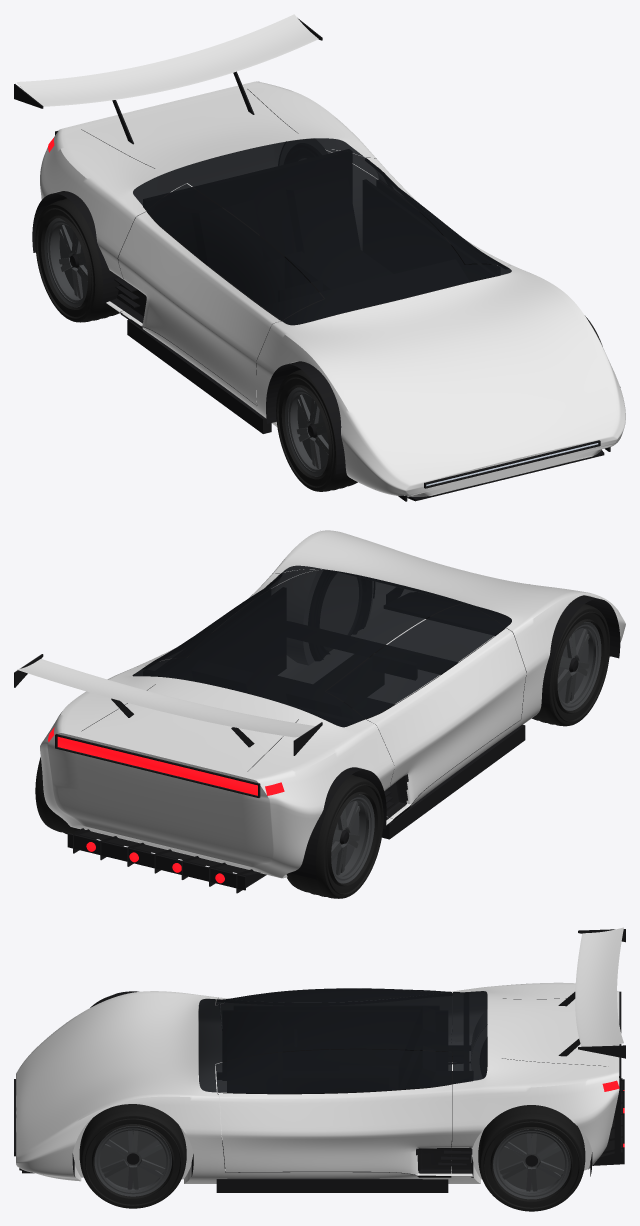
The model's file is roadster2026_hero.glb.
3 views of the same model, one above another, from view 1: azimuth 30°, elevation 25°; view 2: azimuth 150°, elevation 25°; view 3: azimuth 270°, elevation 25° (orthographic). The views are drawn at different scales.
Parts seen in each view (by area): view 1: body, glass, door_L_mesh, trim, door_L_glass, wheel_RL_mesh, wheel_FL_mesh, door_R_glass; view 2: body, glass, door_L_mesh, trim, door_L_glass, wheel_RL_mesh, wheel_FL_mesh, lights, door_R_glass, wheel_RR_mesh; view 3: body, glass, door_R_mesh, door_R_glass, wheel_RR_mesh, wheel_FR_mesh, trim.
Part boxes in pixels (<box>): body: <box>17,14,625,497</box>; glass: <box>133,138,511,325</box>; door_L_mesh: <box>118,211,280,405</box>; trim: <box>14,18,620,501</box>; door_L_glass: <box>147,183,323,320</box>; wheel_RL_mesh: <box>35,198,119,322</box>; wheel_FL_mesh: <box>276,369,357,491</box>; door_R_glass: <box>326,149,504,265</box>; body: <box>17,530,625,878</box>; glass: <box>133,565,511,726</box>; door_L_mesh: <box>366,628,526,818</box>; trim: <box>14,573,620,893</box>; door_L_glass: <box>326,604,505,718</box>; wheel_RL_mesh: <box>286,774,383,898</box>; wheel_FL_mesh: <box>532,604,609,726</box>; lights: <box>48,727,284,883</box>; door_R_glass: <box>147,569,321,665</box>; wheel_RR_mesh: <box>35,757,79,834</box>; body: <box>16,927,623,1183</box>; glass: <box>198,988,487,1092</box>; door_R_mesh: <box>218,1084,451,1175</box>; door_R_glass: <box>215,1049,452,1093</box>; wheel_RR_mesh: <box>478,1105,585,1211</box>; wheel_FR_mesh: <box>79,1104,186,1208</box>; trim: <box>14,929,625,1192</box>.
Bounding box in the file's own units: 2.03 × 1.32 × 4.34.
